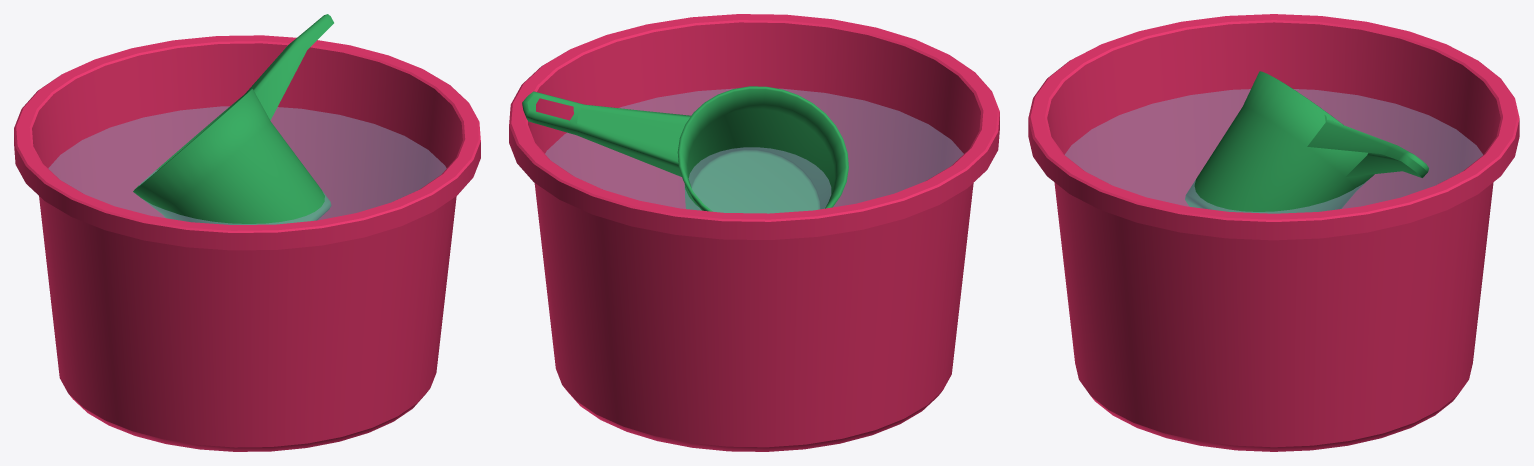
Rendered from badya.gltf.
3 views of the same model, side by side, from view 1: azimuth 30°, elevation 25°; view 2: azimuth 150°, elevation 25°; view 3: azimuth 270°, elevation 25° (orthographic). The views are drawn at different scales.
Visible parts, largest first — view 1: ember_Material.025_0, Cylinder.031_Material.019_0, Cylinder.023_hijau gayung_0, Cylinder.030_hijau gayung_0; view 2: ember_Material.025_0, Cylinder.031_Material.019_0, Cylinder.023_hijau gayung_0, Cylinder.030_hijau gayung_0; view 3: ember_Material.025_0, Cylinder.031_Material.019_0, Cylinder.023_hijau gayung_0, Cylinder.030_hijau gayung_0.
Boxes of the visible parts, box(x1,y1,x2,y2) form: ember_Material.025_0: box(14, 35, 480, 451); Cylinder.031_Material.019_0: box(48, 106, 446, 224); Cylinder.023_hijau gayung_0: box(133, 89, 331, 224); Cylinder.030_hijau gayung_0: box(245, 14, 333, 120); ember_Material.025_0: box(509, 14, 999, 451); Cylinder.031_Material.019_0: box(545, 88, 963, 213); Cylinder.023_hijau gayung_0: box(677, 86, 848, 213); Cylinder.030_hijau gayung_0: box(522, 91, 690, 176); ember_Material.025_0: box(1028, 14, 1519, 451); Cylinder.031_Material.019_0: box(1065, 89, 1482, 213); Cylinder.023_hijau gayung_0: box(1185, 71, 1374, 213); Cylinder.030_hijau gayung_0: box(1307, 115, 1428, 177).
Size of the model in its own units: 0.9061 by 0.598 by 0.9061.
